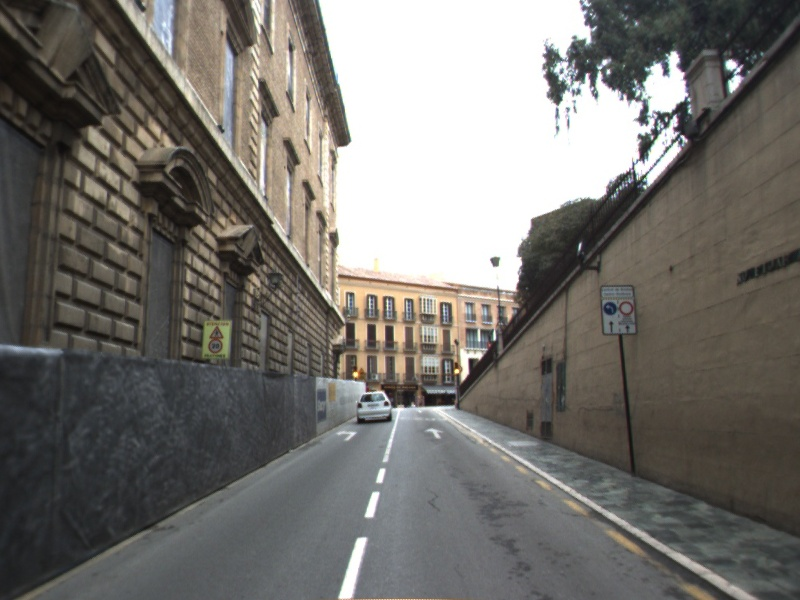LEFT: (334, 428, 359, 443)
STRAIGHT: (422, 426, 446, 441)
